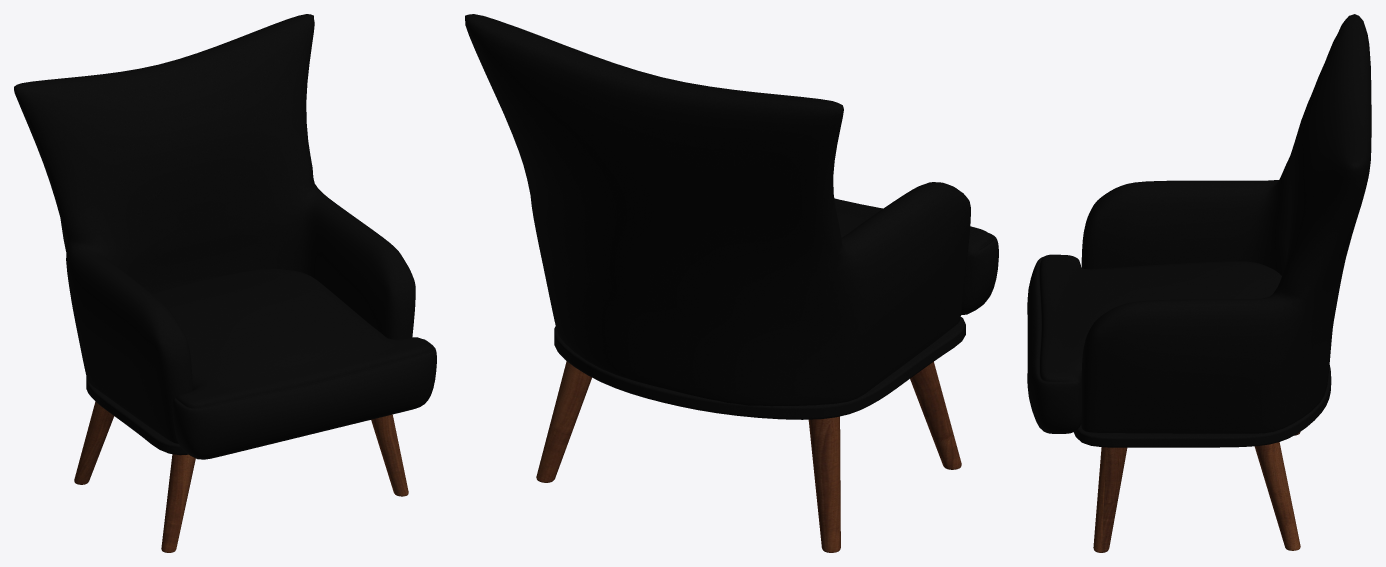
File: armchair_1.glb
3 views of the same model, side by side, from view 1: azimuth 30°, elevation 25°; view 2: azimuth 150°, elevation 25°; view 3: azimuth 270°, elevation 25° (orthographic). The views are drawn at different scales.
Visible parts, largest first — view 1: Object_3, Object_2; view 2: Object_3, Object_2; view 3: Object_3, Object_2.
Boxes of the visible parts, box(x1,y1,x2,y2) form: Object_3: box(14, 14, 436, 459); Object_2: box(74, 401, 408, 552); Object_3: box(465, 14, 998, 419); Object_2: box(536, 361, 961, 552); Object_3: box(1027, 14, 1371, 447); Object_2: box(1093, 432, 1300, 552).
Size of the model in its own units: 69.01 by 84.53 by 65.59.
2 materials, 2 textured.
